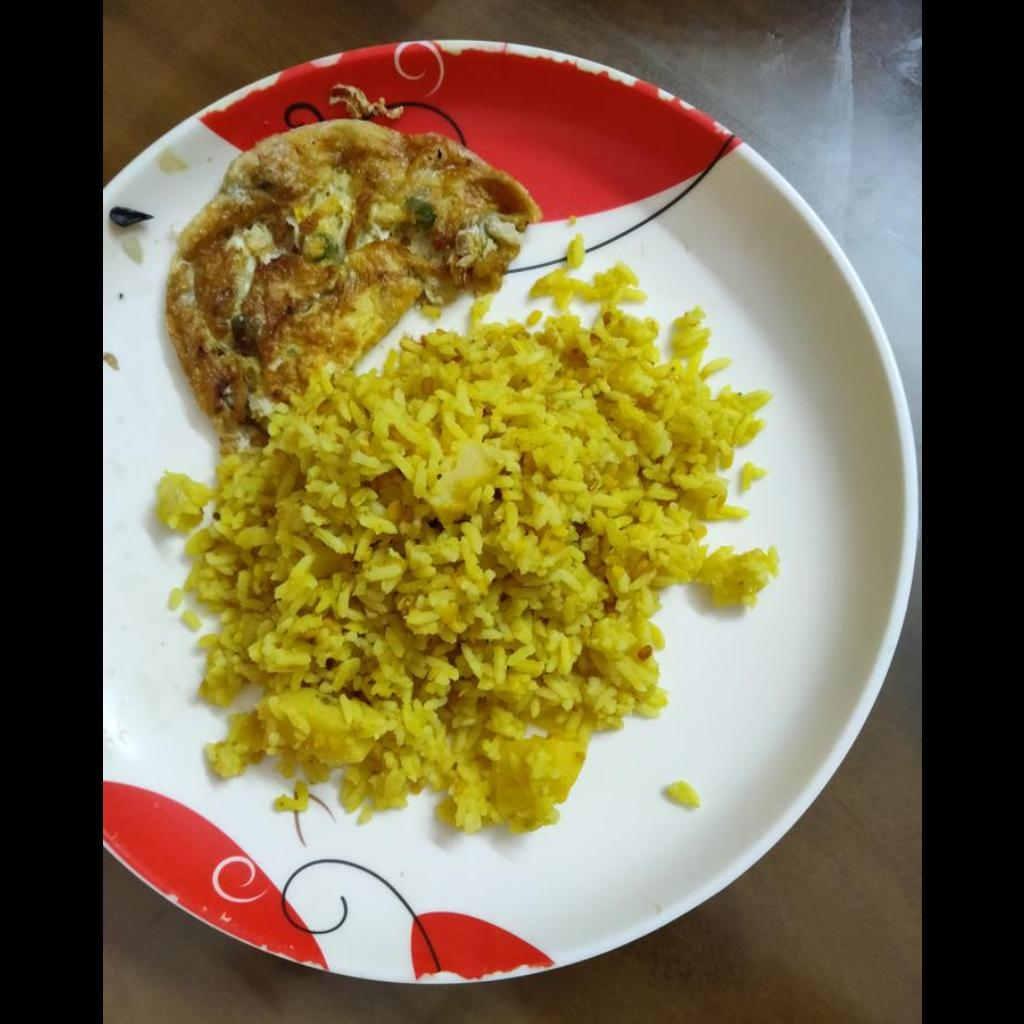egg-poached: (170, 124, 537, 435)
khichuri: (153, 311, 781, 831)
